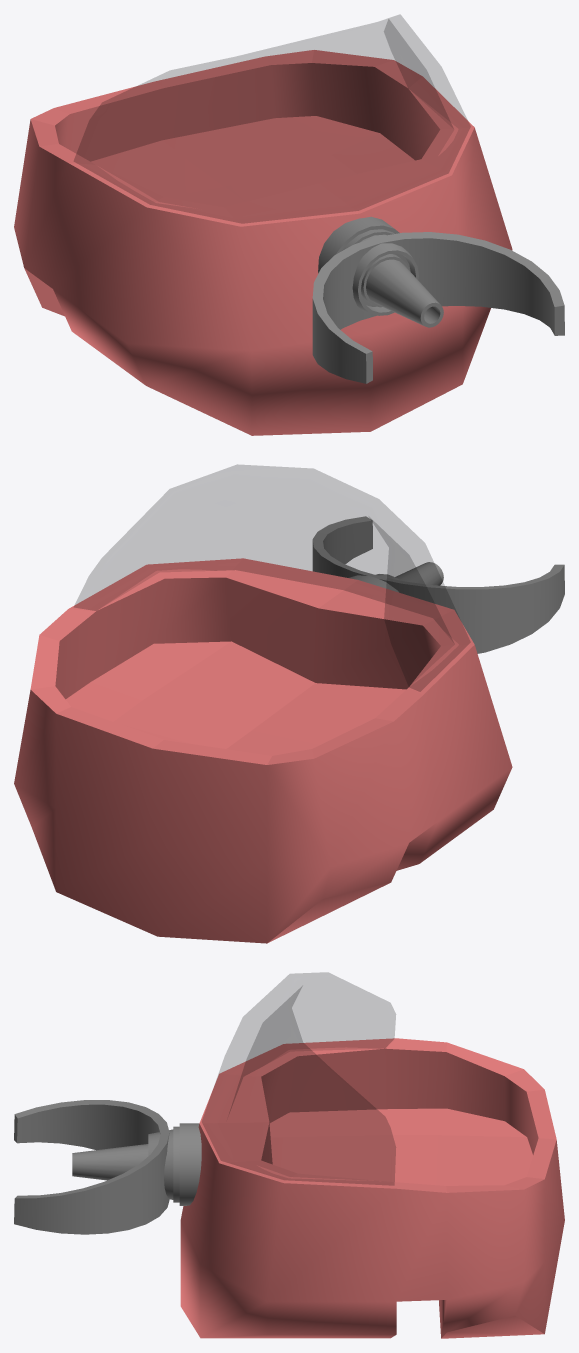
The model's file is Turret-Laser.fbx.
3 views of the same model, one above another, from view 1: azimuth 30°, elevation 25°; view 2: azimuth 150°, elevation 25°; view 3: azimuth 270°, elevation 25° (orthographic). The views are drawn at different scales.
Parts seen in each view (by area): view 1: Turret_Laser:polySurface1; view 2: Turret_Laser:polySurface1; view 3: Turret_Laser:polySurface1.
Part boxes in pixels (bbox=[...]): Turret_Laser:polySurface1: bbox=[14, 15, 564, 435]; Turret_Laser:polySurface1: bbox=[14, 464, 564, 943]; Turret_Laser:polySurface1: bbox=[14, 972, 564, 1338].
Bounding box in the file's own units: 0.4319 × 0.3797 × 0.6153.
